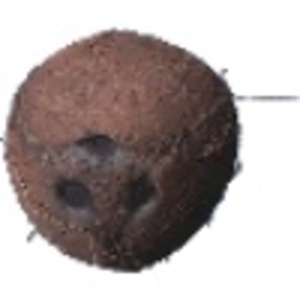coco: (1, 31, 300, 271)
